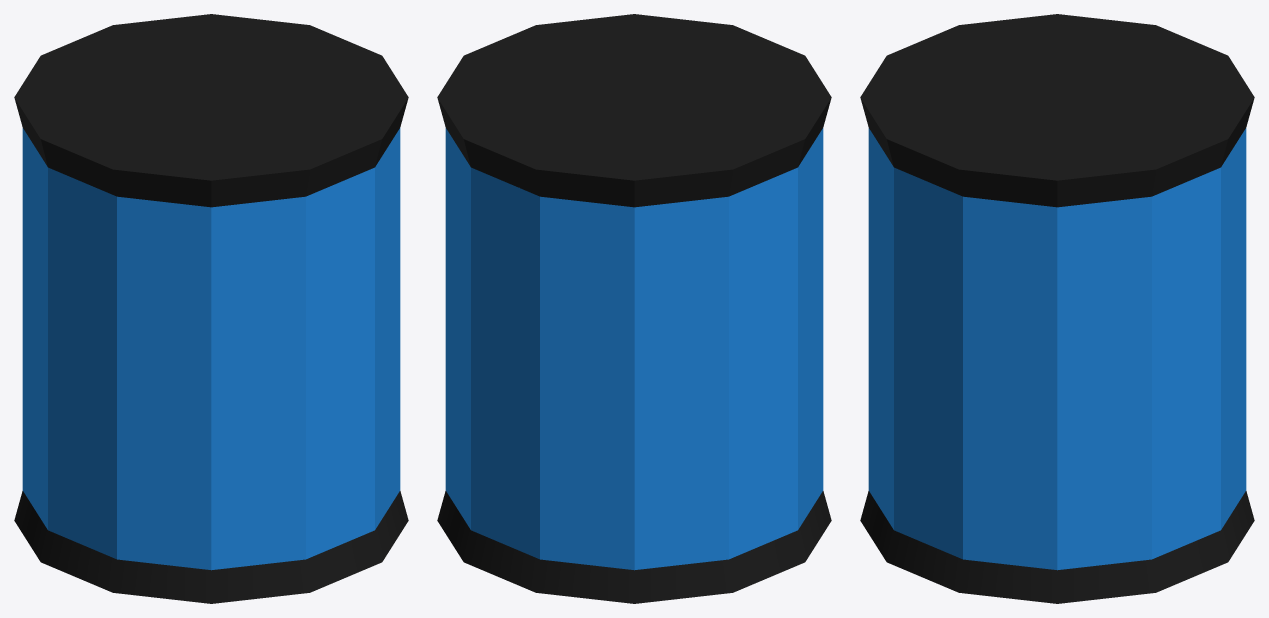
File: Teletransportador.fbx
3 views of the same model, side by side, from view 1: azimuth 30°, elevation 25°; view 2: azimuth 150°, elevation 25°; view 3: azimuth 270°, elevation 25° (orthographic).
Visible parts, largest first — view 1: Cylinder001; view 2: Cylinder001; view 3: Cylinder001.
Boxes of the visible parts, left/top/right/bottom form: Cylinder001: left=14, top=14, right=408, bottom=603; Cylinder001: left=437, top=14, right=831, bottom=603; Cylinder001: left=860, top=14, right=1254, bottom=603.
Size of the model in its own units: 59.11 by 70 by 59.11.
